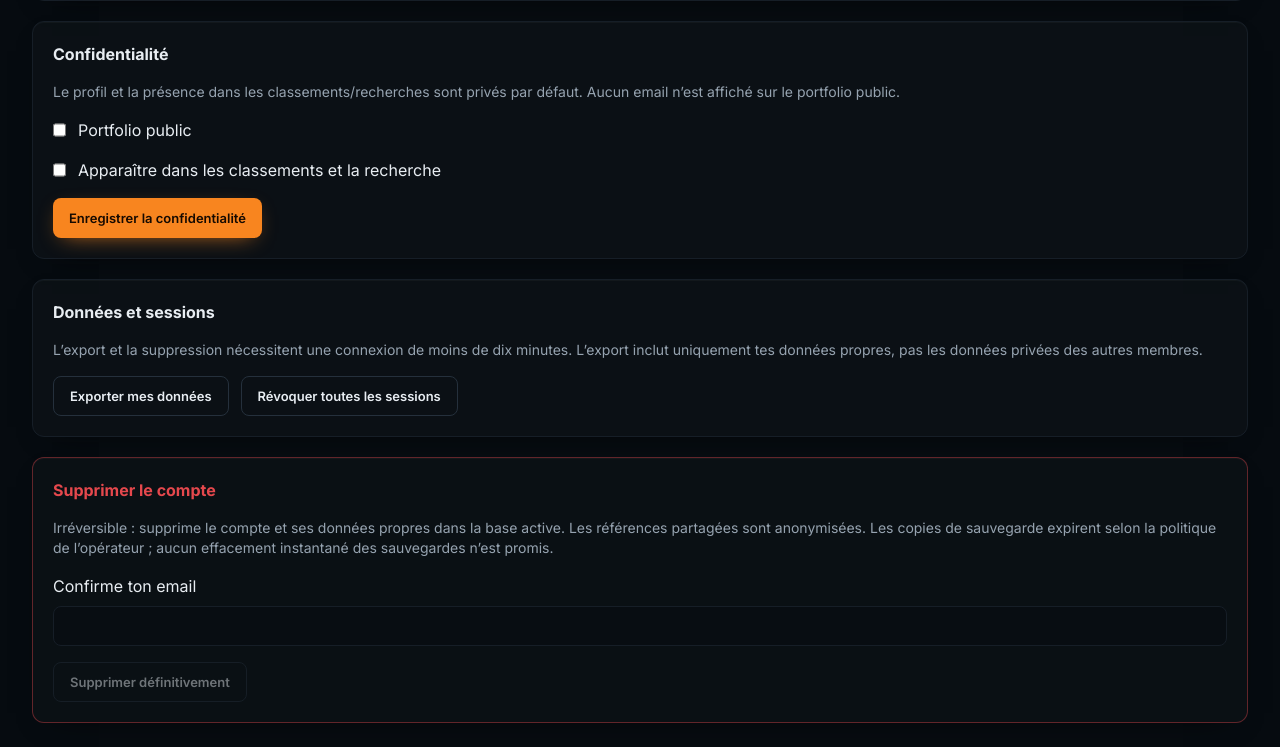
real account settings › revokes sessions on the server before local logout
(page scrolled)
Click the button "Révoquer toutes les sessions".
click(349, 396)  # box [240, 376, 458, 416]
(page scrolled)
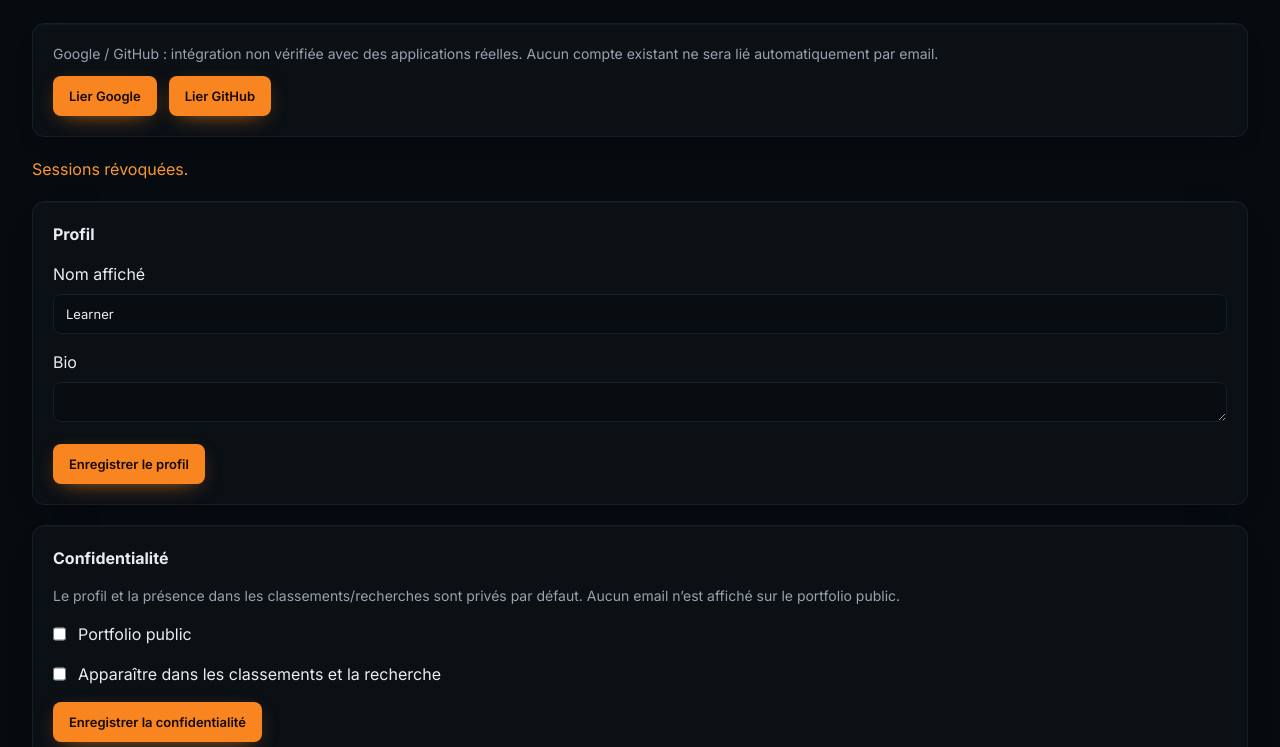
Result: the message reads "Sessions révoquées." at [32, 159, 188, 179]
